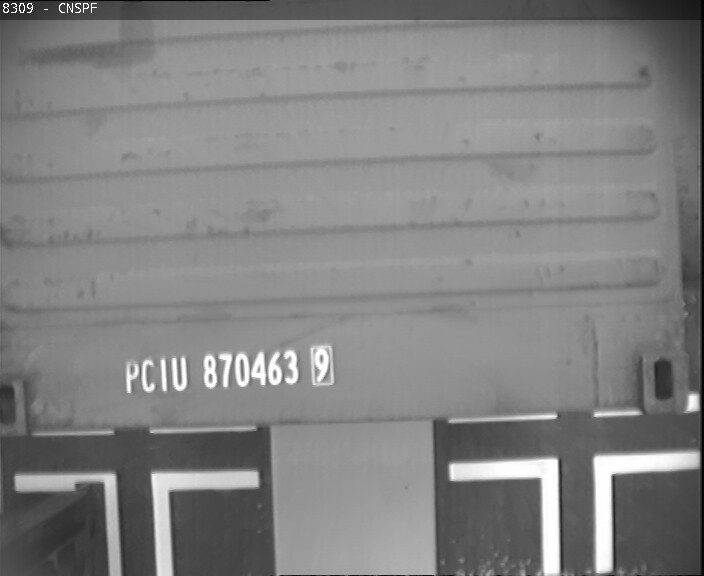groundmarker_1: (447, 445, 704, 576), (14, 463, 259, 576)
